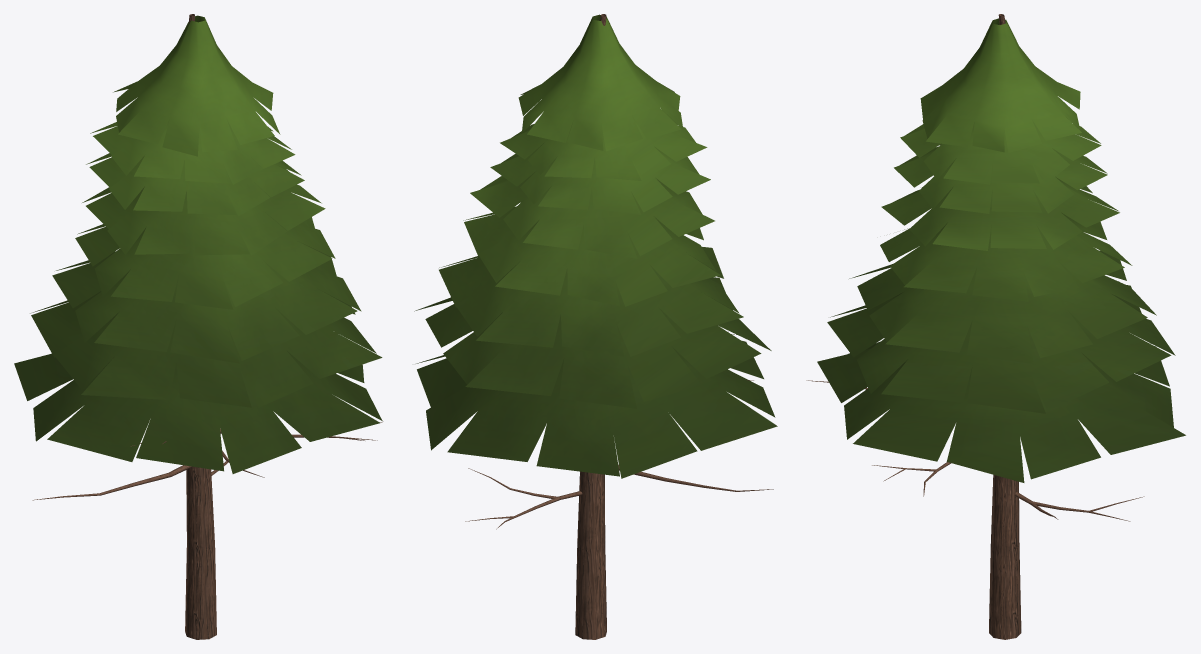
The model's file is tree02.obj.
The picture shows the model from 3 angles, left to right: view 1: azimuth 30°, elevation 25°; view 2: azimuth 150°, elevation 25°; view 3: azimuth 270°, elevation 25°; orthographic projection.
Parts seen in each view (by area): view 1: tree.019, tree.001_tree.020; view 2: tree.019, tree.001_tree.020; view 3: tree.019, tree.001_tree.020.
Boxes of the visible parts, x1,y1,x2,y2 form: tree.019: (14, 15, 382, 473); tree.001_tree.020: (32, 14, 383, 639); tree.019: (414, 14, 777, 478); tree.001_tree.020: (465, 14, 773, 639); tree.019: (817, 18, 1185, 482); tree.001_tree.020: (806, 14, 1144, 639).
Bounding box in the file's own units: 2.39 × 4.1 × 2.3.
